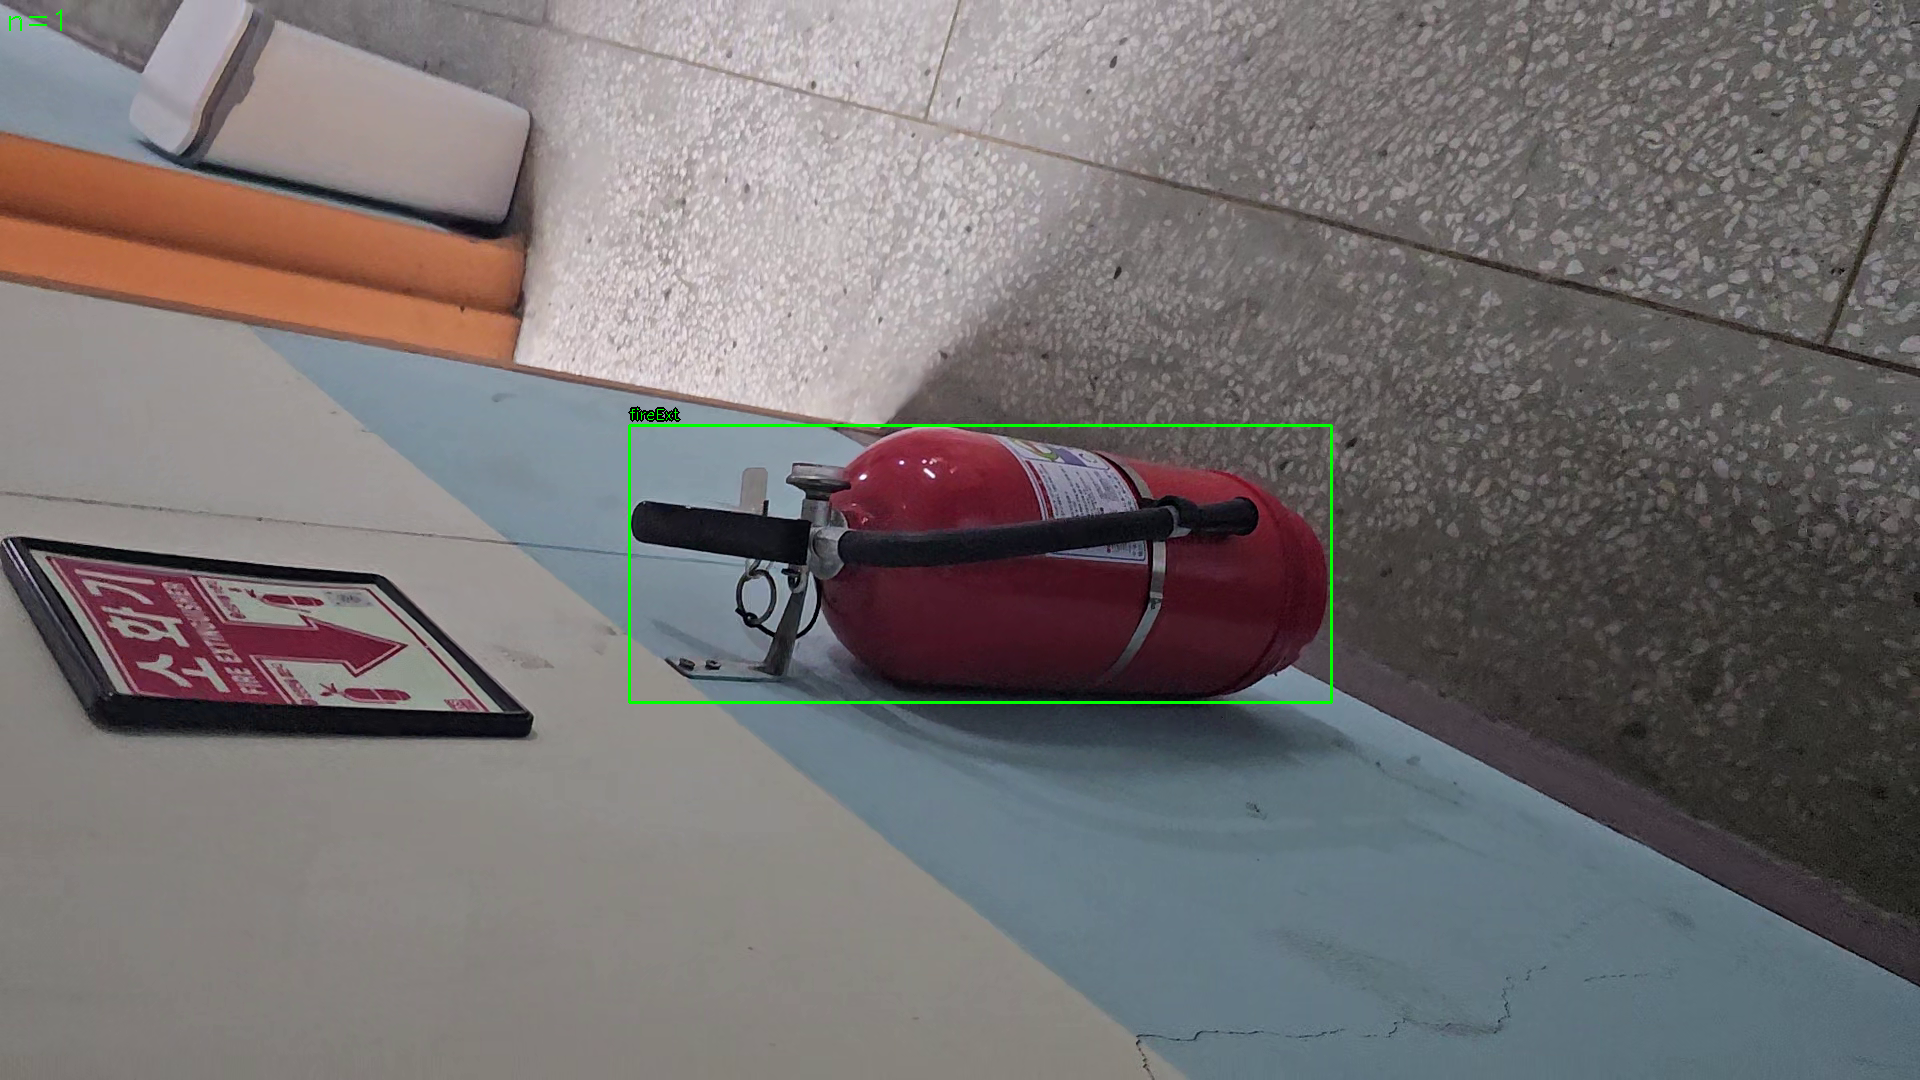lane: (629, 425, 1332, 703)
